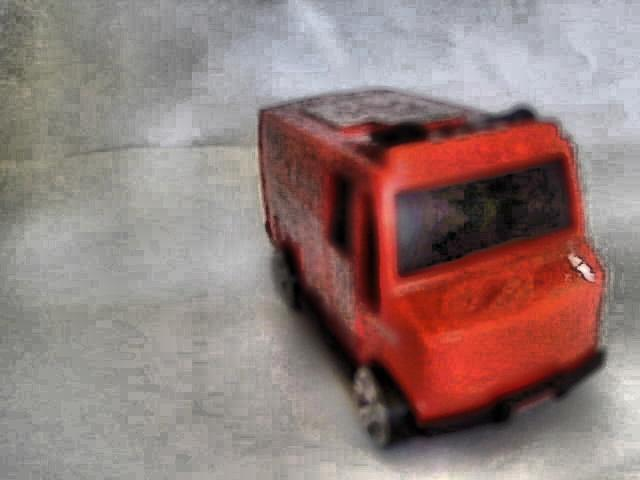fire_truck: (250, 82, 614, 451)
